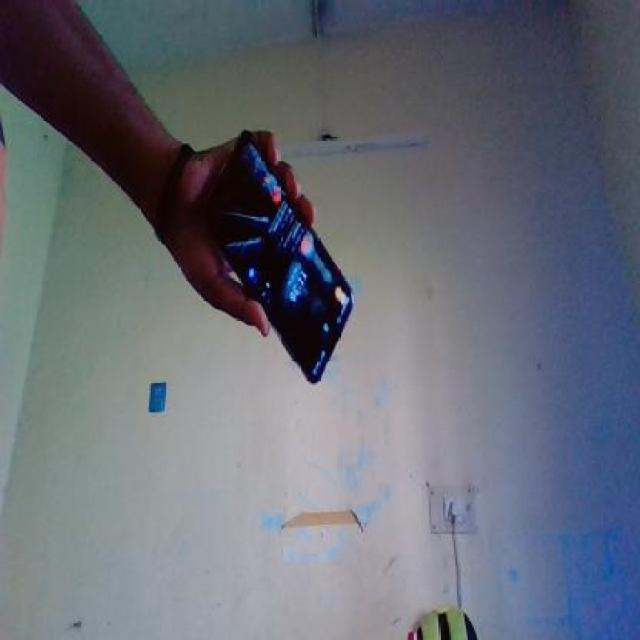Phone: (186, 128, 359, 390)
